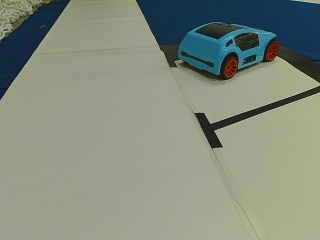car: (177, 22, 278, 79)
